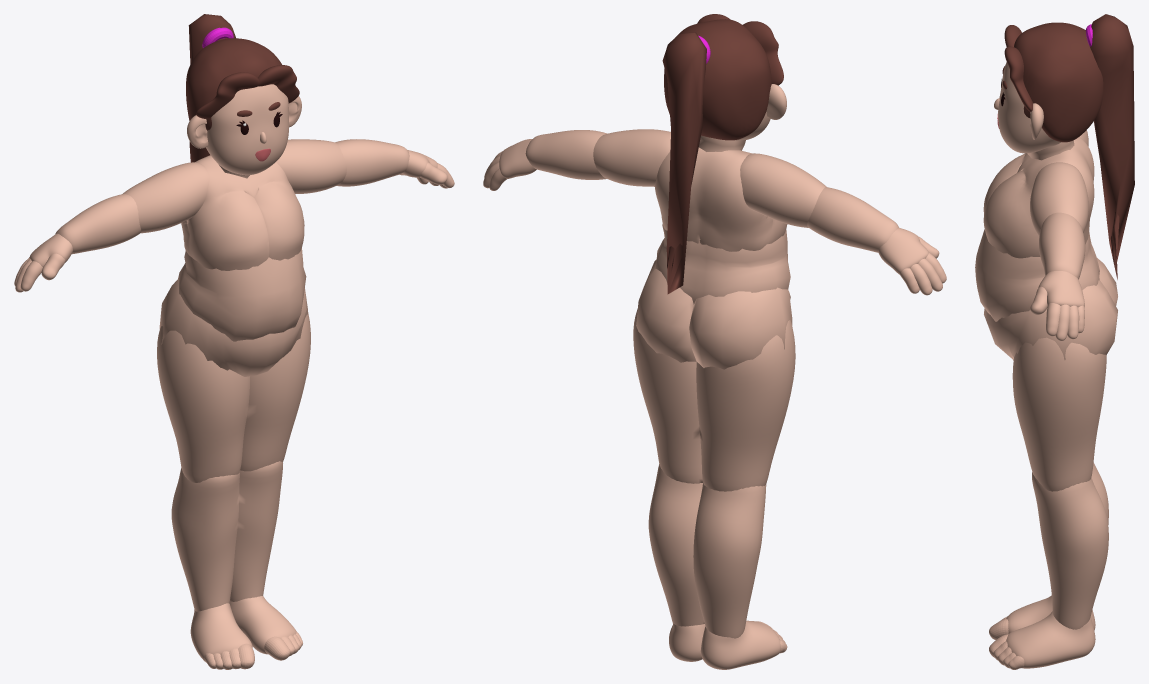
File: female_model9.glb
3 views of the same model, side by side, from view 1: azimuth 30°, elevation 25°; view 2: azimuth 150°, elevation 25°; view 3: azimuth 270°, elevation 25° (orthographic). The views are drawn at different scales.
Parts seen in each view (by area): view 1: leg.008, chest 1.008, arm.008, foot.008, arm 2.008, head.008, pelvis.008, Icosphere.015, hand.008, Cube.036, Icosphere.018, ears.008; view 2: leg.008, chest 1.008, pelvis.008, arm.008, Icosphere.015, Icosphere.018, arm 2.008, hand.008, foot.008, Cube.036; view 3: leg.008, chest 1.008, Icosphere.015, Icosphere.018, foot.008, pelvis.008, arm.008, hand.008, arm 2.008, head.008, Cube.036, neck.008 (+1 smaller).
Part boxes in pixels (x1,y1,x2,y2): leg.008: (157, 312, 310, 611); chest 1.008: (177, 155, 306, 341); arm.008: (123, 139, 346, 233); foot.008: (190, 596, 302, 669); arm 2.008: (55, 139, 409, 254); head.008: (206, 84, 288, 175); pelvis.008: (159, 280, 307, 376); Icosphere.015: (186, 38, 281, 130); hand.008: (14, 150, 454, 292); Cube.036: (196, 65, 299, 118); Icosphere.018: (188, 14, 235, 162); ears.008: (187, 96, 301, 148); leg.008: (633, 309, 795, 638); chest 1.008: (655, 147, 790, 304); pelvis.008: (636, 259, 792, 369); arm.008: (593, 129, 826, 227); Icosphere.015: (664, 19, 771, 140); Icosphere.018: (662, 32, 706, 294); arm 2.008: (525, 130, 899, 252); hand.008: (483, 139, 946, 295); foot.008: (669, 620, 787, 669); Cube.036: (697, 14, 783, 85); leg.008: (1012, 337, 1108, 629); chest 1.008: (975, 137, 1099, 321); Icosphere.015: (1014, 22, 1103, 142); Icosphere.018: (1090, 14, 1134, 279); foot.008: (989, 595, 1095, 669); pelvis.008: (984, 258, 1117, 360); arm.008: (1030, 130, 1088, 236); hand.008: (1030, 271, 1084, 340); arm 2.008: (1039, 212, 1085, 279); head.008: (998, 62, 1061, 153); Cube.036: (1004, 25, 1032, 111); neck.008: (1027, 140, 1074, 160).
Bounding box in the file's own units: 15.12 × 20.4 × 4.66.
